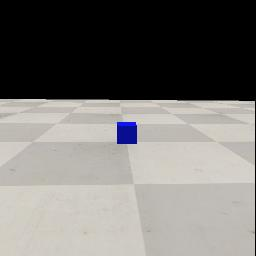box: (117, 122, 137, 144)
